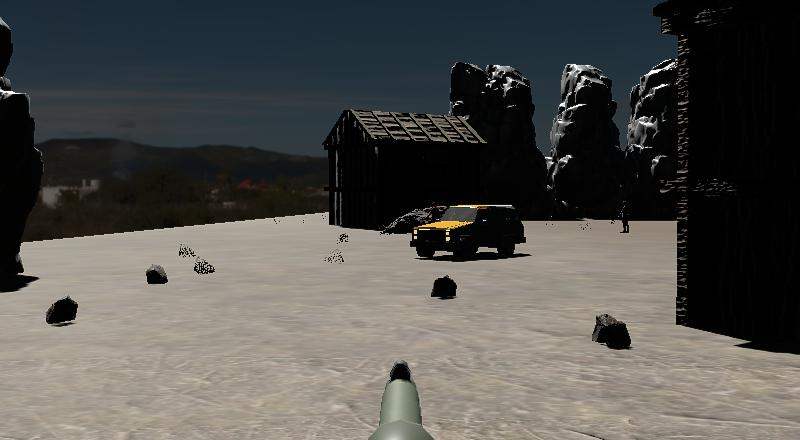car: (406, 200, 530, 264)
